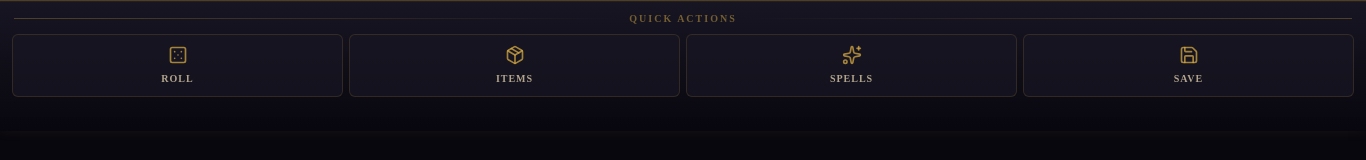
AC2: Save button visible feedback › should change button label from "Save" to "Saved!" after click
Click the button titled "Save": (1188, 66) [1023,34,1354,97]
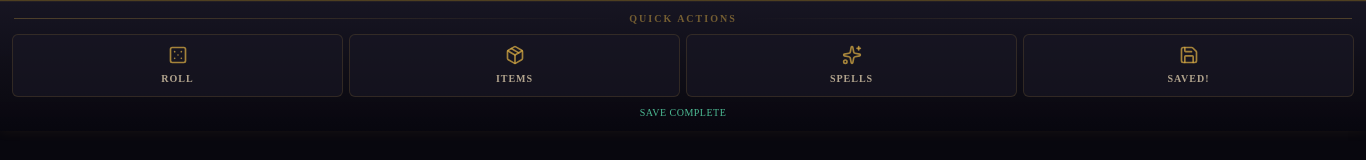
Result: the button titled "Saved!" is shown at [1023,34,1354,97]
